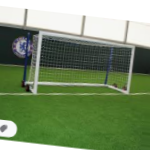goals: (24, 30, 137, 96)
